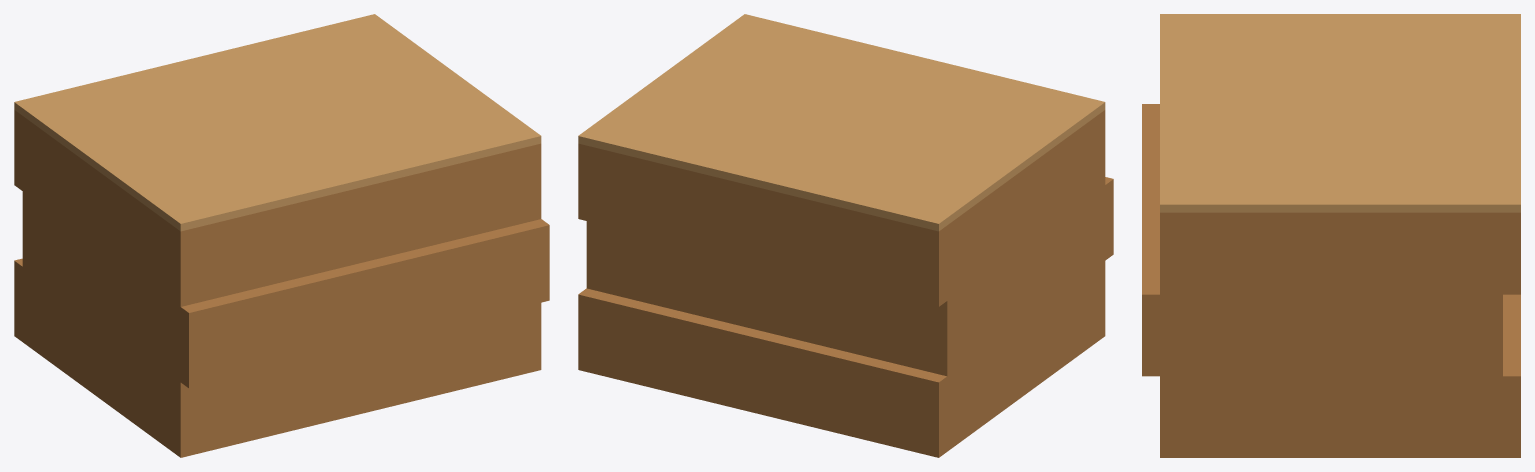
The model's file is material_wood.glb.
3 views of the same model, side by side, from view 1: azimuth 30°, elevation 25°; view 2: azimuth 150°, elevation 25°; view 3: azimuth 270°, elevation 25° (orthographic). The views are drawn at different scales.
Bounding box in the file's own units: 0.5 × 0.31 × 0.42.
